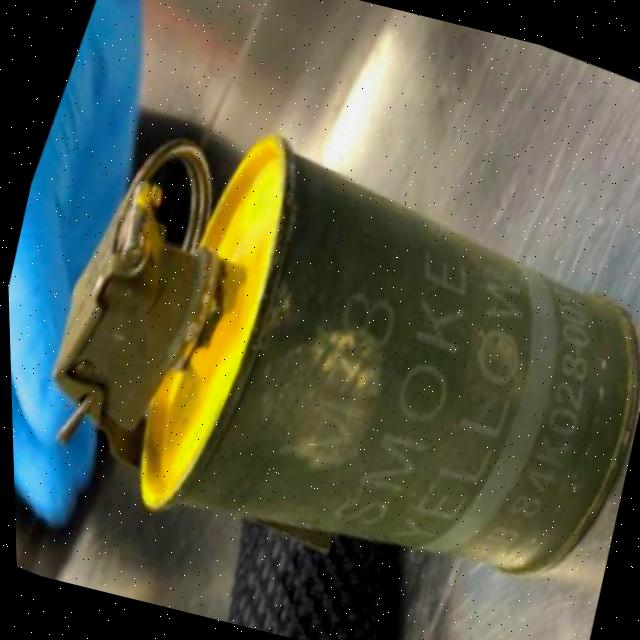grenade: (1, 56, 640, 640)
